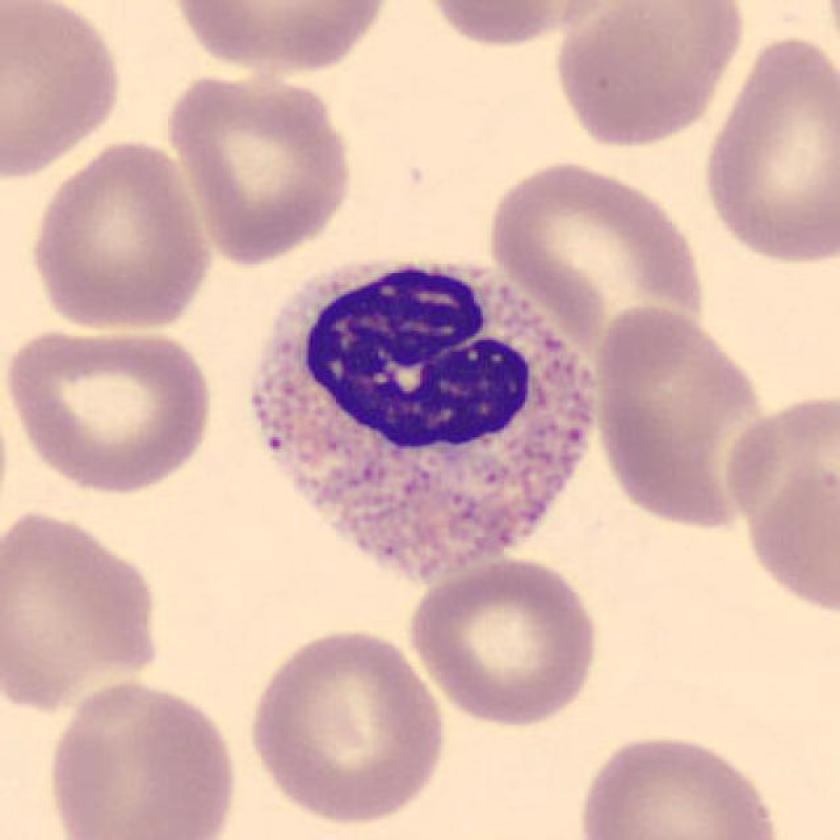neutrophil: (255, 261, 600, 581)
